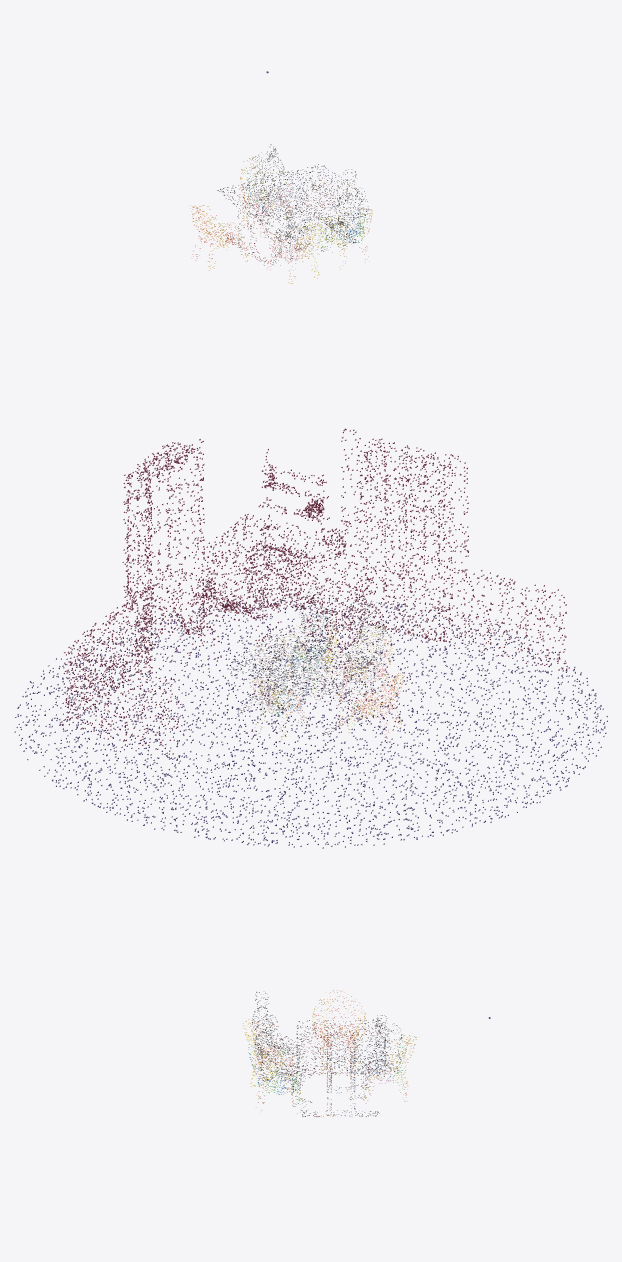
File: meal(4).glb
3 renders of one model, top to bottom at view 1: azimuth 30°, elevation 25°; view 2: azimuth 150°, elevation 25°; view 3: azimuth 270°, elevation 25°, orthographic.
Parts seen in each view (by area): view 1: Circle; view 2: Circle; view 3: Circle.
Part boxes in pixels (x1=…): Circle: x1=190, y1=71, x2=372, y2=283; Circle: x1=14, y1=428, x2=607, y2=848; Circle: x1=243, y1=990, x2=490, y2=1116.
Bounding box in the file's own units: 9.5 × 3.83 × 9.48.
